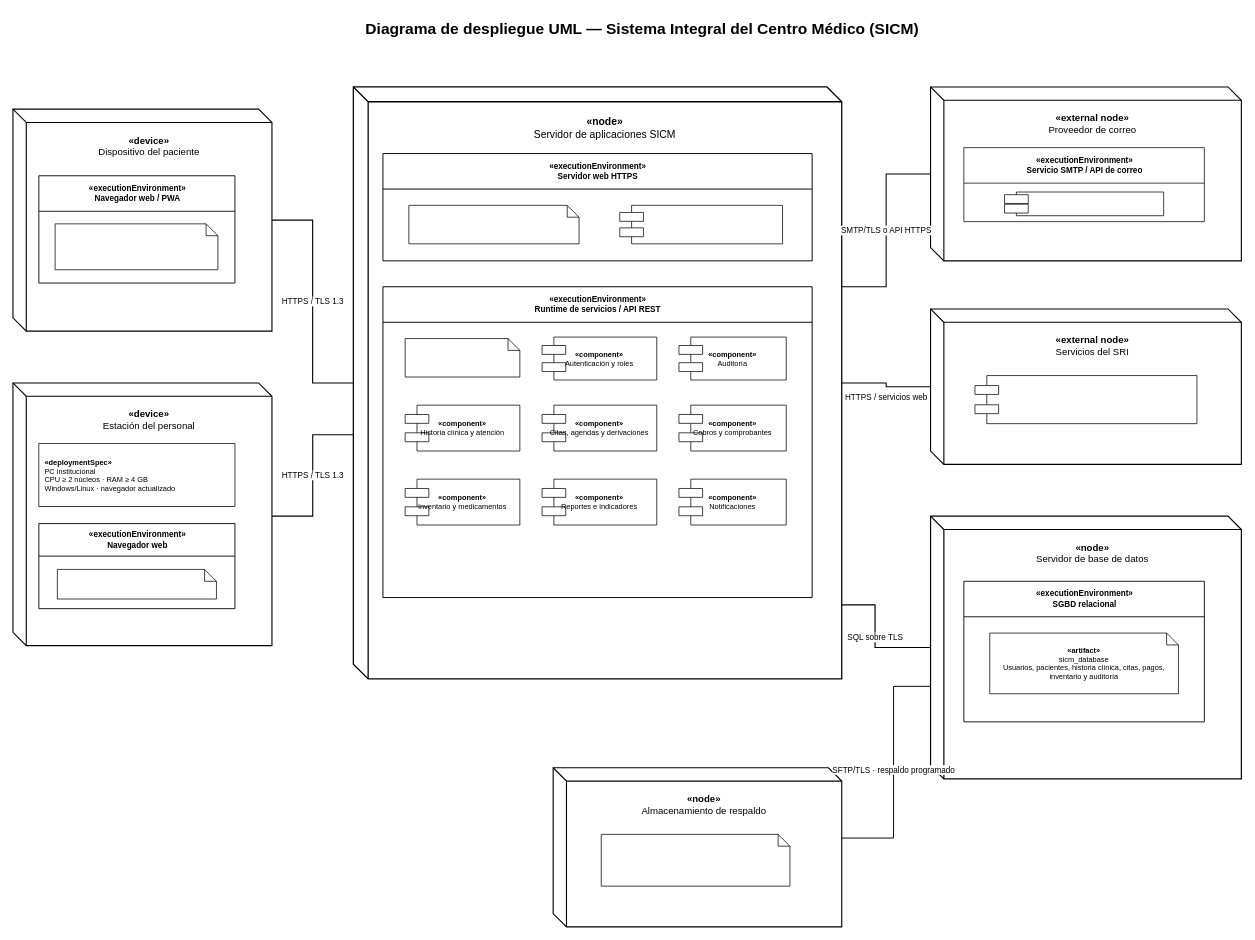
Some shapes in this 1255 by 940 pixel diagram are drawn without their labels. The centre of each missing label's shape, as x and y in pixels:
"«artifact» backup_sicm_encrypted Copias programadas y registro de restauración" belongs at (x=695, y=860).
"«artifact» sicm-api" belongs at (x=462, y=357).
"«artifact» SICM-Web-Paciente Registro, cuenta, citas, historial y notificaciones" belongs at (x=136, y=246).
"«artifact» SICM-Web-Personal" belongs at (x=136, y=584).
"«artifact» sicm-web.html / recursos UI" belongs at (x=493, y=224).
"«component» Entrega de mensajes" belongs at (x=1084, y=203).
"«component» Proxy inverso y TLS" belongs at (x=701, y=224).
"«service» Autorización de comprobantes electrónicos" belongs at (x=1085, y=399).
